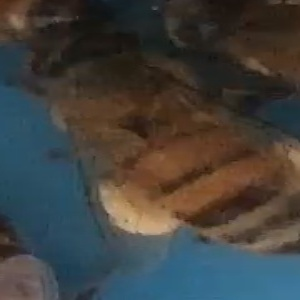bee: (15, 32, 300, 263), (158, 2, 298, 86)
